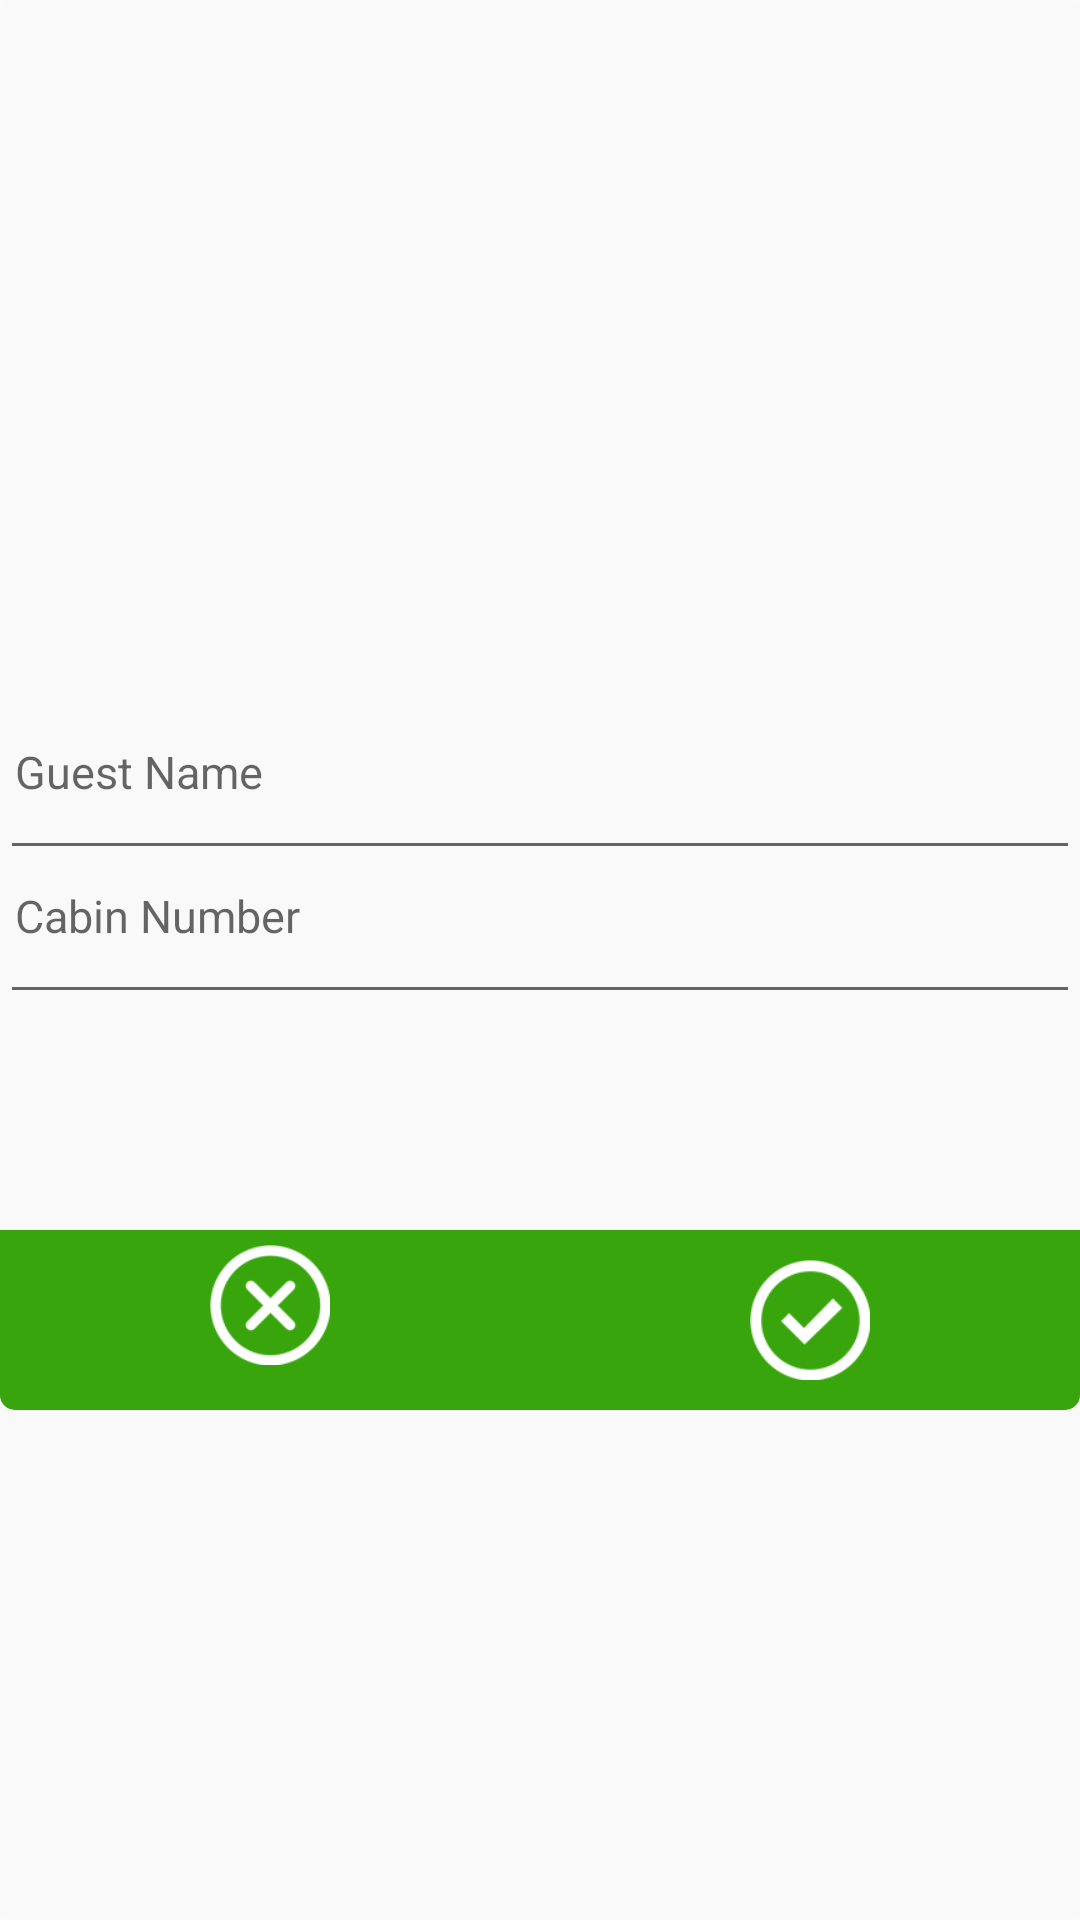

Icons on this 1080 x 1920 Android screen, each with its box as (x1, y1, x2, y2):
delete: (210, 1245, 330, 1365)
done: (750, 1260, 870, 1380)
